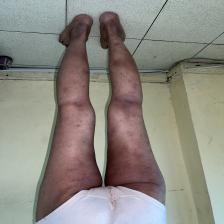DA: (109, 141, 152, 181), (47, 160, 92, 188), (60, 64, 86, 92), (108, 120, 140, 139), (65, 116, 93, 135), (112, 70, 138, 90)
